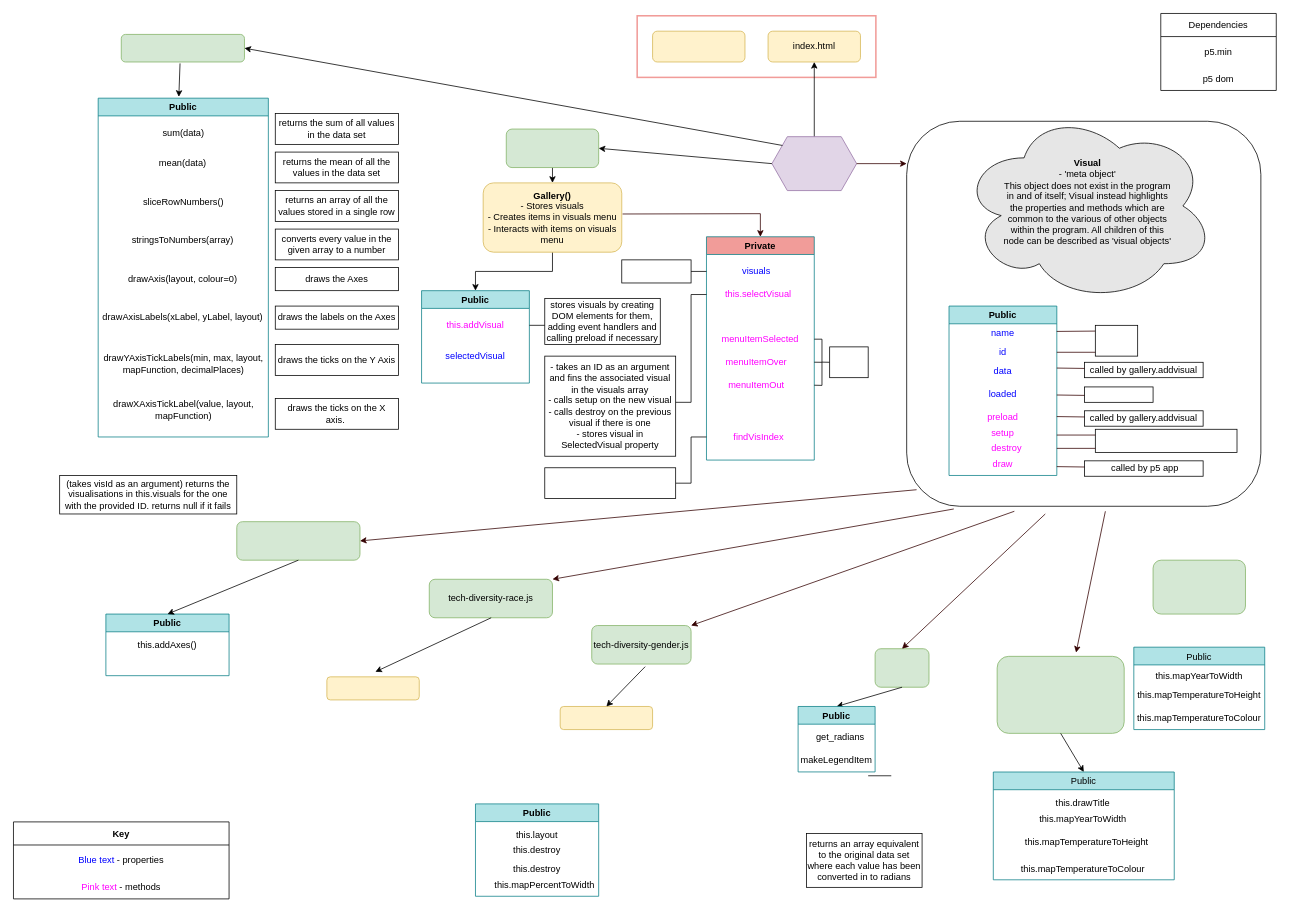
Some shapes in this 1290 by 912 pixel diagram are drawn without their labels. Each missing label, with the centre of its shape:
"array which stores visuals" goes at point (656, 271).
"called by gallery.selectVisual" goes at point (1166, 440).
"climate-change.js" goes at point (1198, 586).
"Event handlers" goes at point (848, 362).
"gallery.js" goes at point (552, 148).
"helper-functions.js" goes at point (182, 48).
"p5.js App" goes at point (814, 163).
"pay-gap-1997-2017.js" goes at point (1060, 694).
"pay-gap-by-job-2017" goes at point (298, 540).
"pie chart.js" goes at point (901, 667).
"returns the index of a visual in the visuals array given its ID" goes at point (610, 483).
"strings" goes at point (1116, 340).
"style.css" goes at point (698, 46).
"TechDiversityGender" goes at point (606, 718).
"TechDiversityRace" goes at point (372, 688).
"used by draw()" goes at point (1118, 394).
